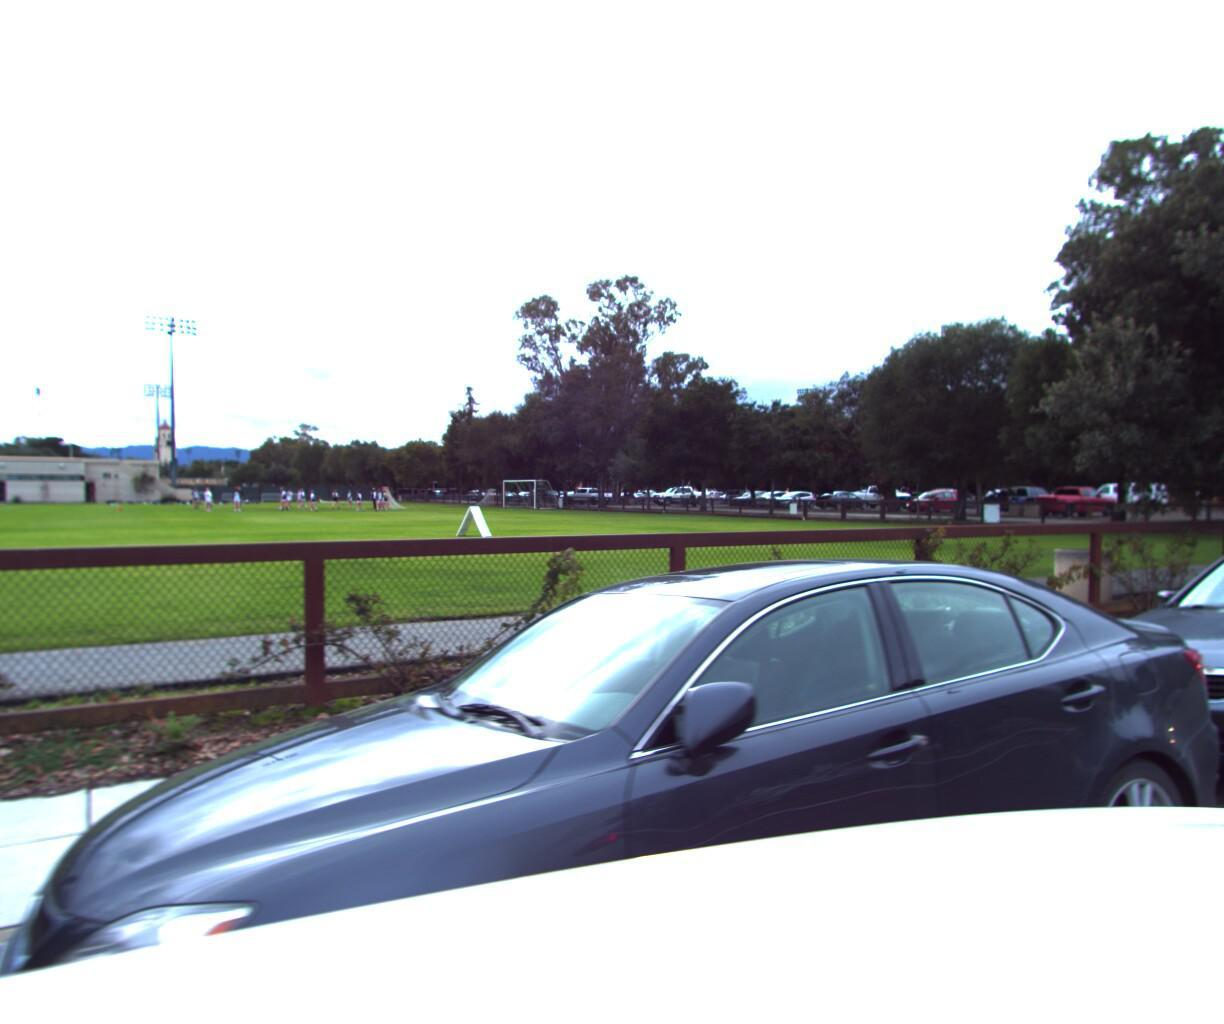car: (0, 531, 1224, 1024), (1023, 503, 1224, 867)
